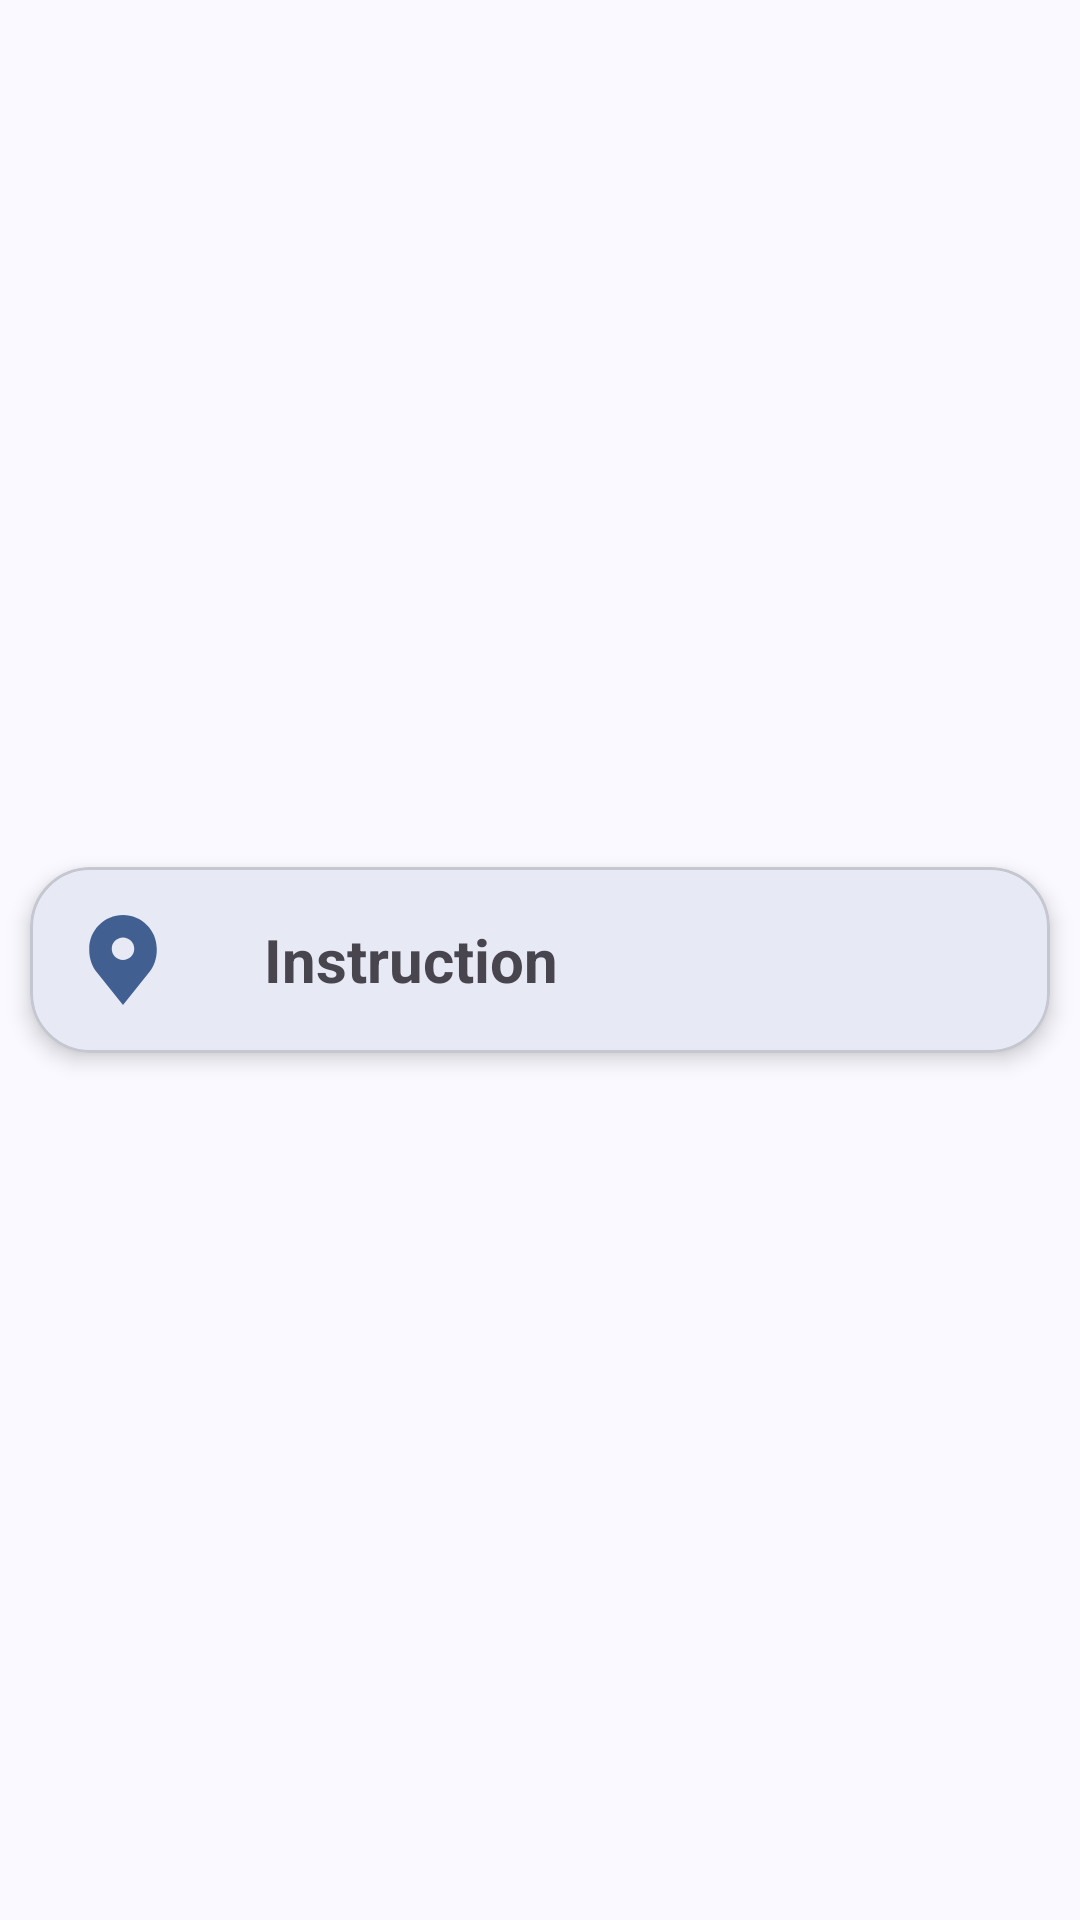

Point at icon controls on the screen. Image size 1080 × 1920, points as point (x, y).
map pin: point (123, 960)
